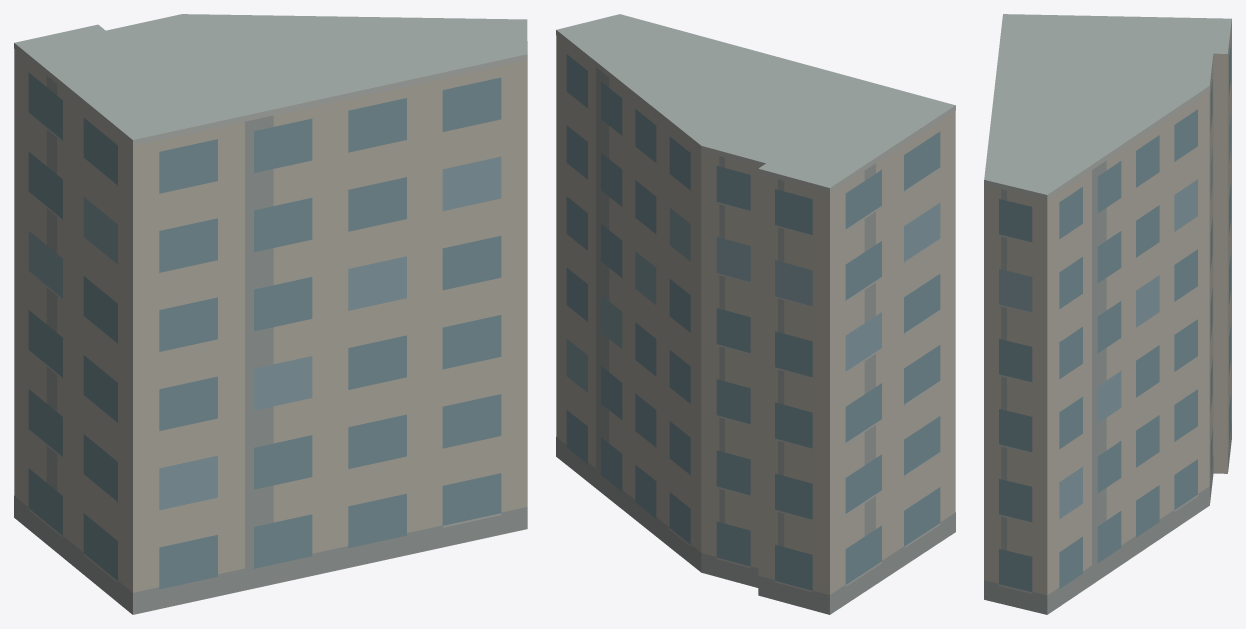
File: survey-upis-32958232.glb
3 views of the same model, side by side, from view 1: azimuth 30°, elevation 25°; view 2: azimuth 150°, elevation 25°; view 3: azimuth 270°, elevation 25° (orthographic). The views are drawn at different scales.
Parts seen in each view (by area): view 1: survey-upis-32958232.tmp; view 2: survey-upis-32958232.tmp; view 3: survey-upis-32958232.tmp.
Part boxes in pixels (<box>): survey-upis-32958232.tmp: <box>14,14,527,614</box>; survey-upis-32958232.tmp: <box>556,14,955,614</box>; survey-upis-32958232.tmp: <box>984,14,1231,614</box>.
Bounding box in the file's own units: 17.9 × 19.35 × 10.36.
